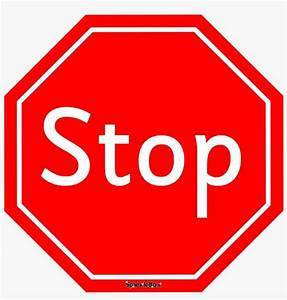stop: (5, 10, 285, 294)
